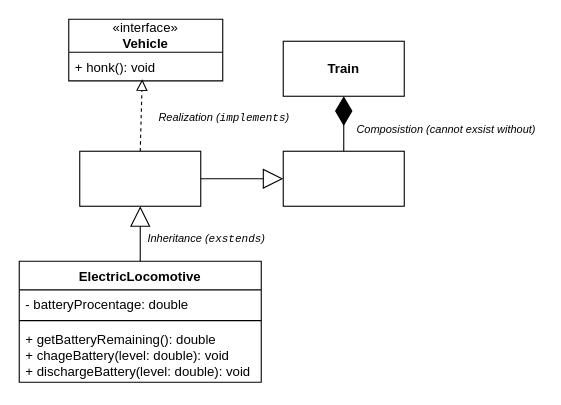
This 561x405 diagram has some shape labels left out. Here are the shapes that lost their labels. From the top down, the centre of each, then its label:
[140,178]: Locomotive
[343,178]: RollingStock
